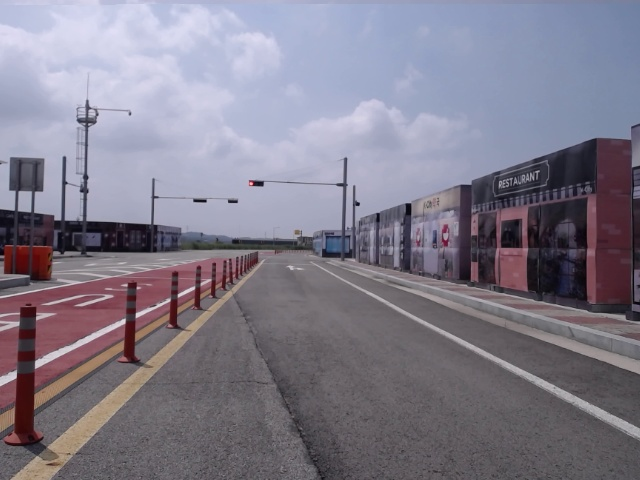red_3: (249, 180, 263, 186)
